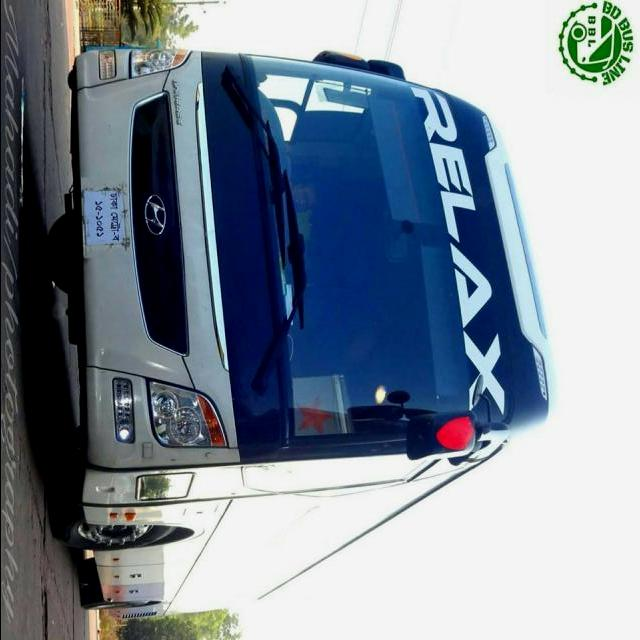bus: (44, 41, 562, 622)
